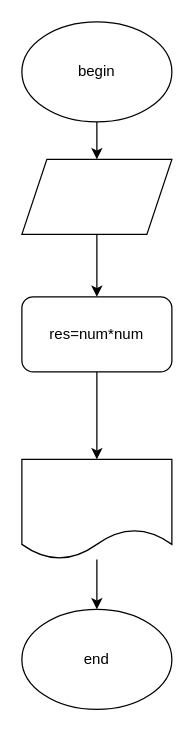
The diagram is 194 pixels wide and 731 high, and some of its shapes have lost their labels. Here are the shapes that lost their labels. From the top down, the box of each, then its label:
(21, 158, 172, 234): num
(21, 458, 172, 559): result
